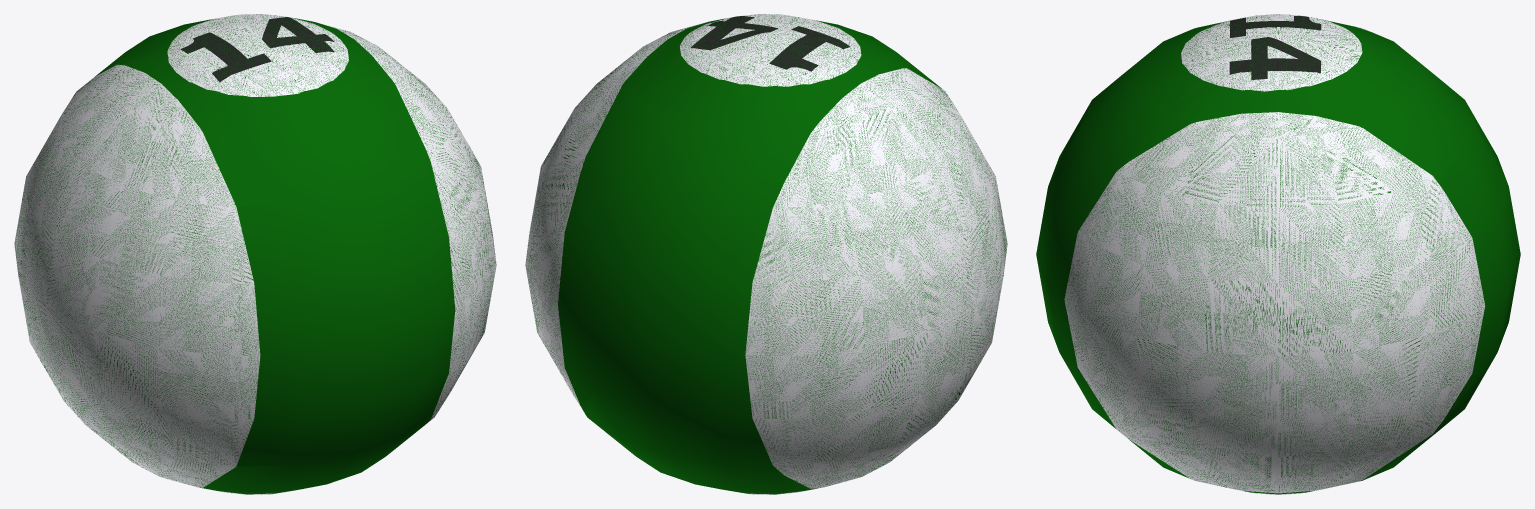
Rendered from 14ball.dae.
3 renders of one model, left to right at view 1: azimuth 30°, elevation 25°; view 2: azimuth 150°, elevation 25°; view 3: azimuth 270°, elevation 25°, orthographic.
Visible parts, largest first — view 1: Billiard_Ball__14_Green_Striped (×6); view 2: Billiard_Ball__14_Green_Striped (×6); view 3: Billiard_Ball__14_Green_Striped (×5).
Part boxes in pixels (left/top/right/bottom): Billiard_Ball__14_Green_Striped (×6): left=14, top=14, right=496, bottom=494; Billiard_Ball__14_Green_Striped (×6): left=525, top=14, right=1007, bottom=494; Billiard_Ball__14_Green_Striped (×5): left=1036, top=14, right=1520, bottom=494.
Bounding box in the file's own units: 1.58 × 1.58 × 1.58.
